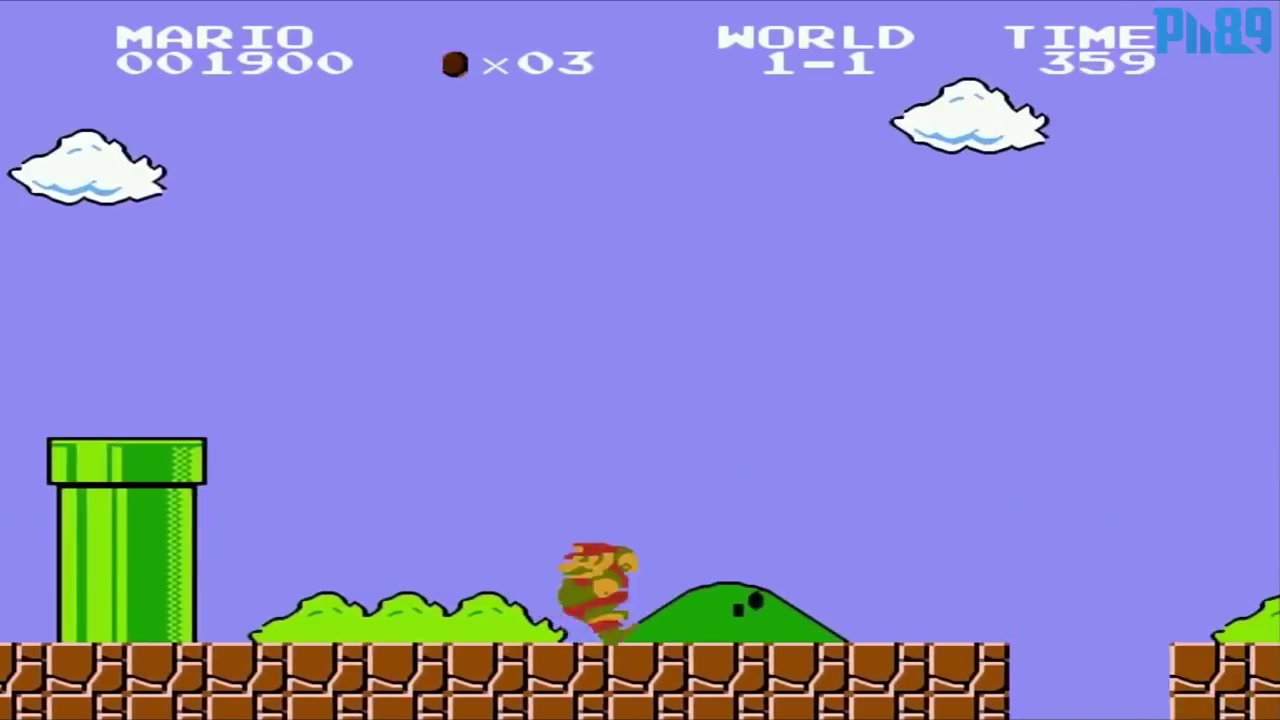mario: (545, 531, 642, 643)
